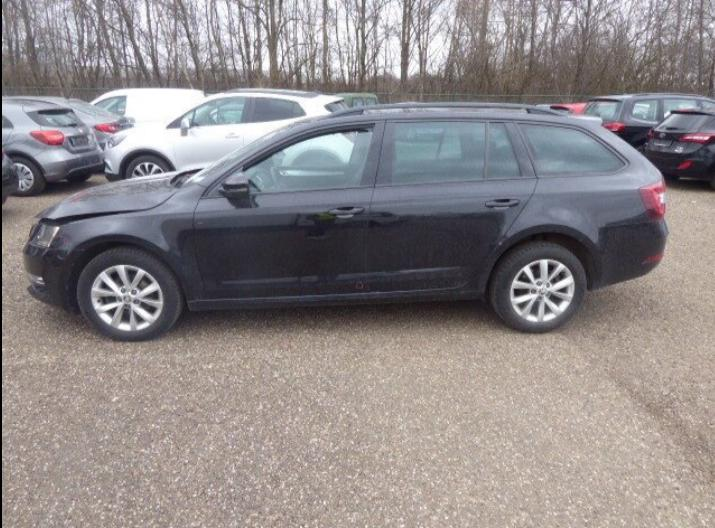Back-bumper: (589, 211, 670, 291)
Back-door: (366, 119, 538, 292)
Back-wheel: (489, 241, 586, 333)
Back-window: (393, 122, 486, 184), (520, 124, 624, 174), (488, 123, 522, 178)
Fender: (49, 184, 208, 300)
Front-bumper: (23, 240, 83, 318)
Front-door: (193, 119, 386, 300)
Front-wheel: (76, 243, 186, 342)
Front-window: (243, 131, 374, 191)
Grille: (28, 223, 43, 242)
Headlight: (31, 225, 60, 248)
Hood: (35, 168, 203, 219)
Mirror: (207, 172, 250, 198)
Quarter-panel: (494, 156, 663, 254)
Rocker-panel: (188, 250, 503, 311)
Roof: (306, 102, 597, 128)
Tail-light: (639, 178, 666, 220)
Windshield: (180, 118, 311, 189)
